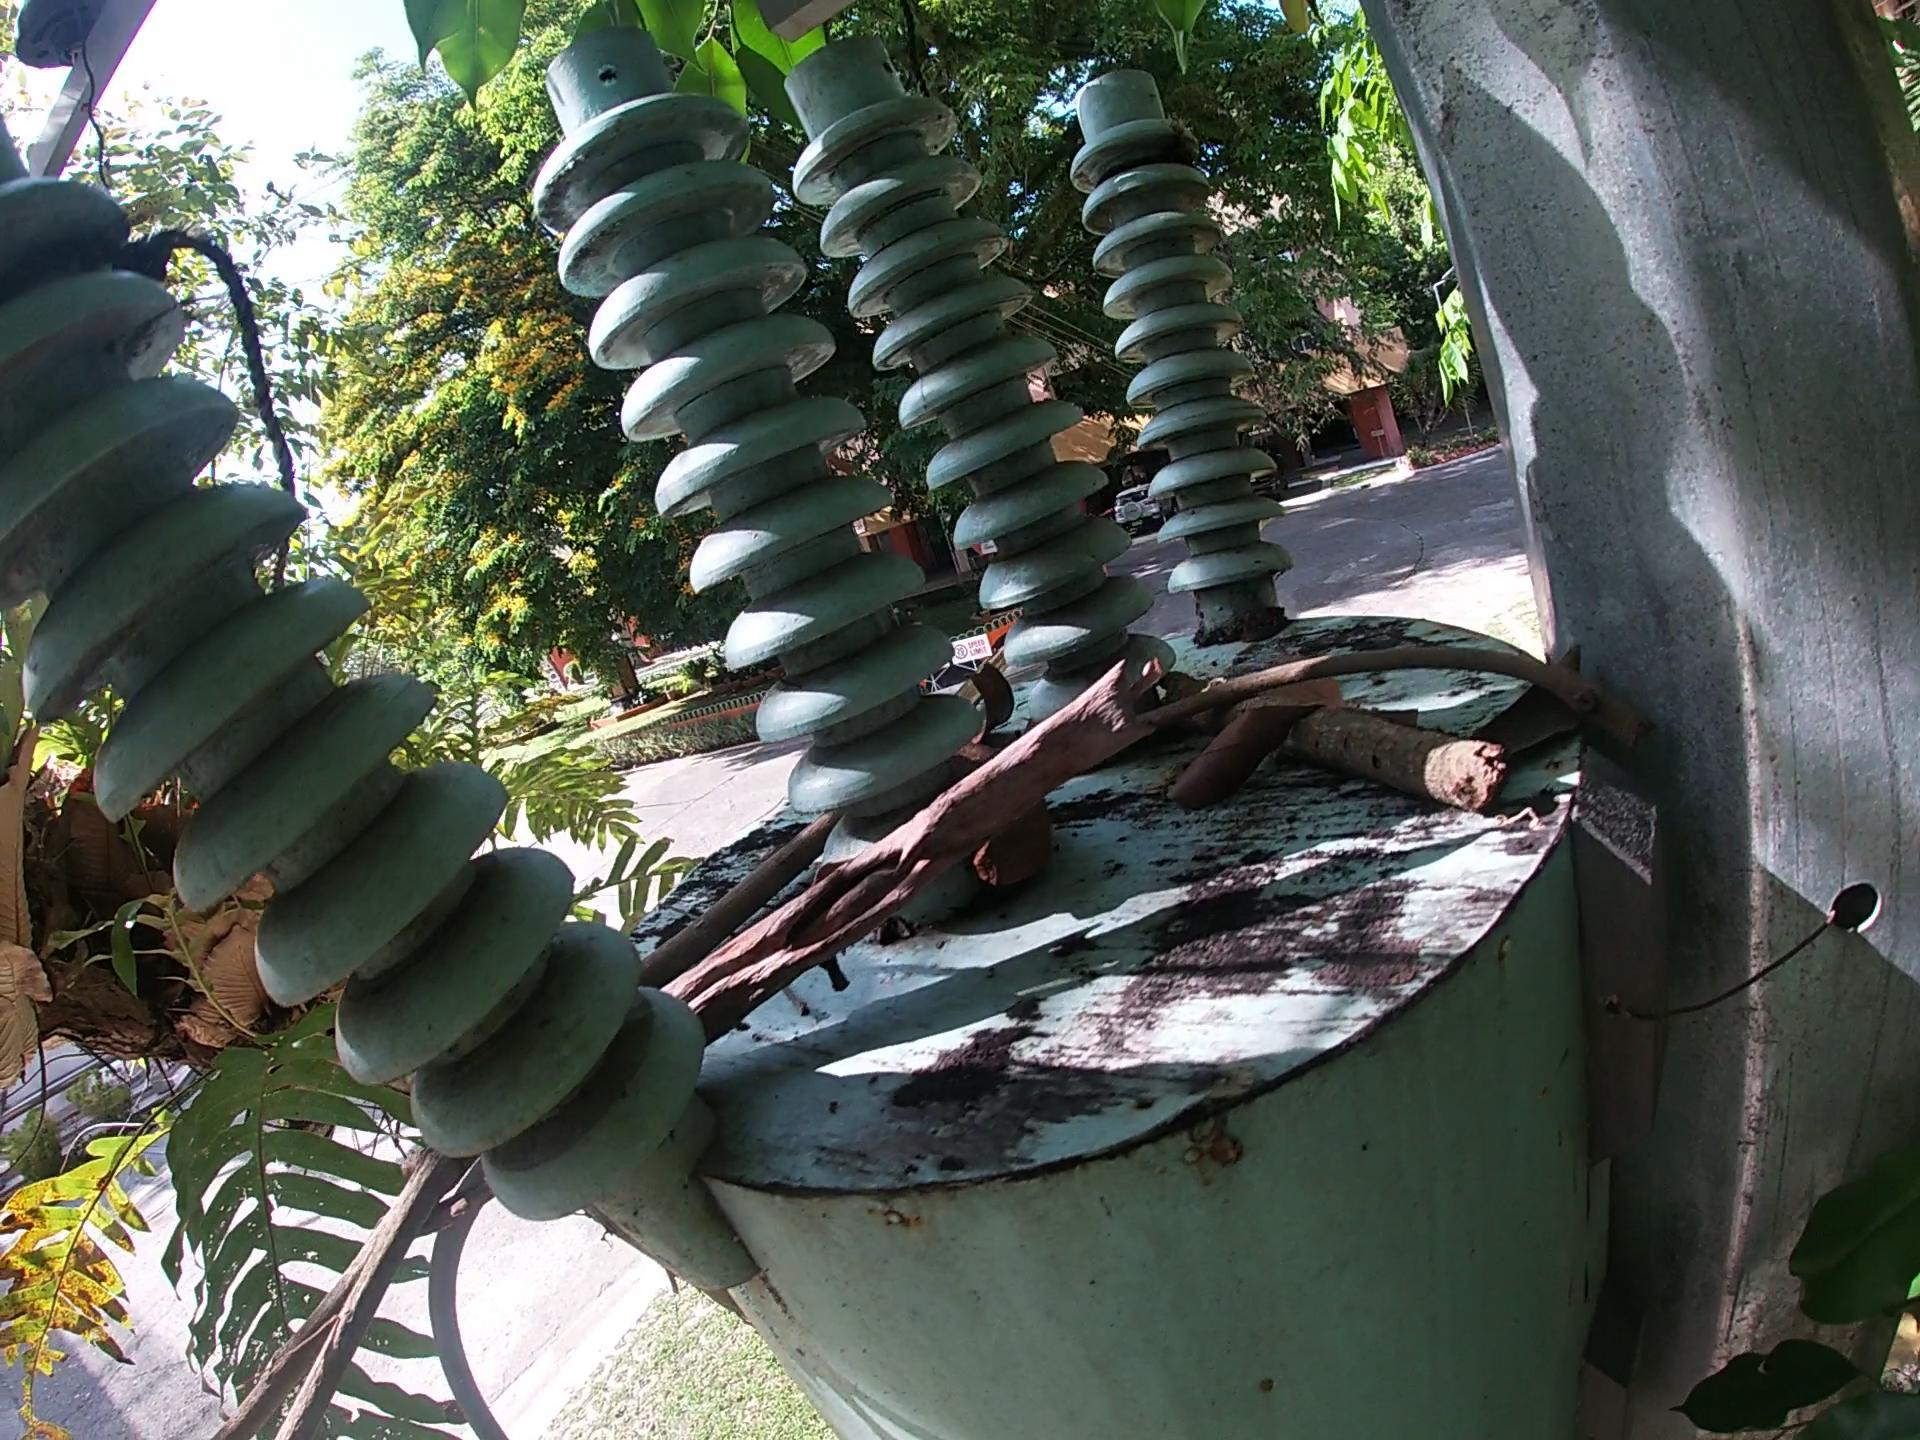leaf: (1144, 697, 1321, 817), (1463, 640, 1593, 761)
mahogany fruit: (955, 740, 1067, 895), (957, 663, 1023, 741)
tree branch: (664, 652, 1173, 1048), (206, 1139, 458, 1440), (1117, 632, 1657, 762), (1149, 659, 1509, 815), (635, 808, 839, 995)
